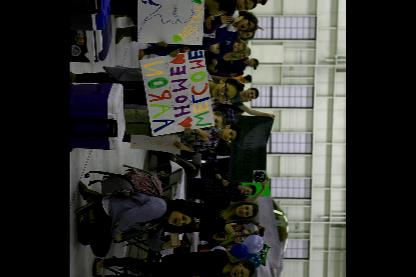F18: (240, 194, 290, 276)
